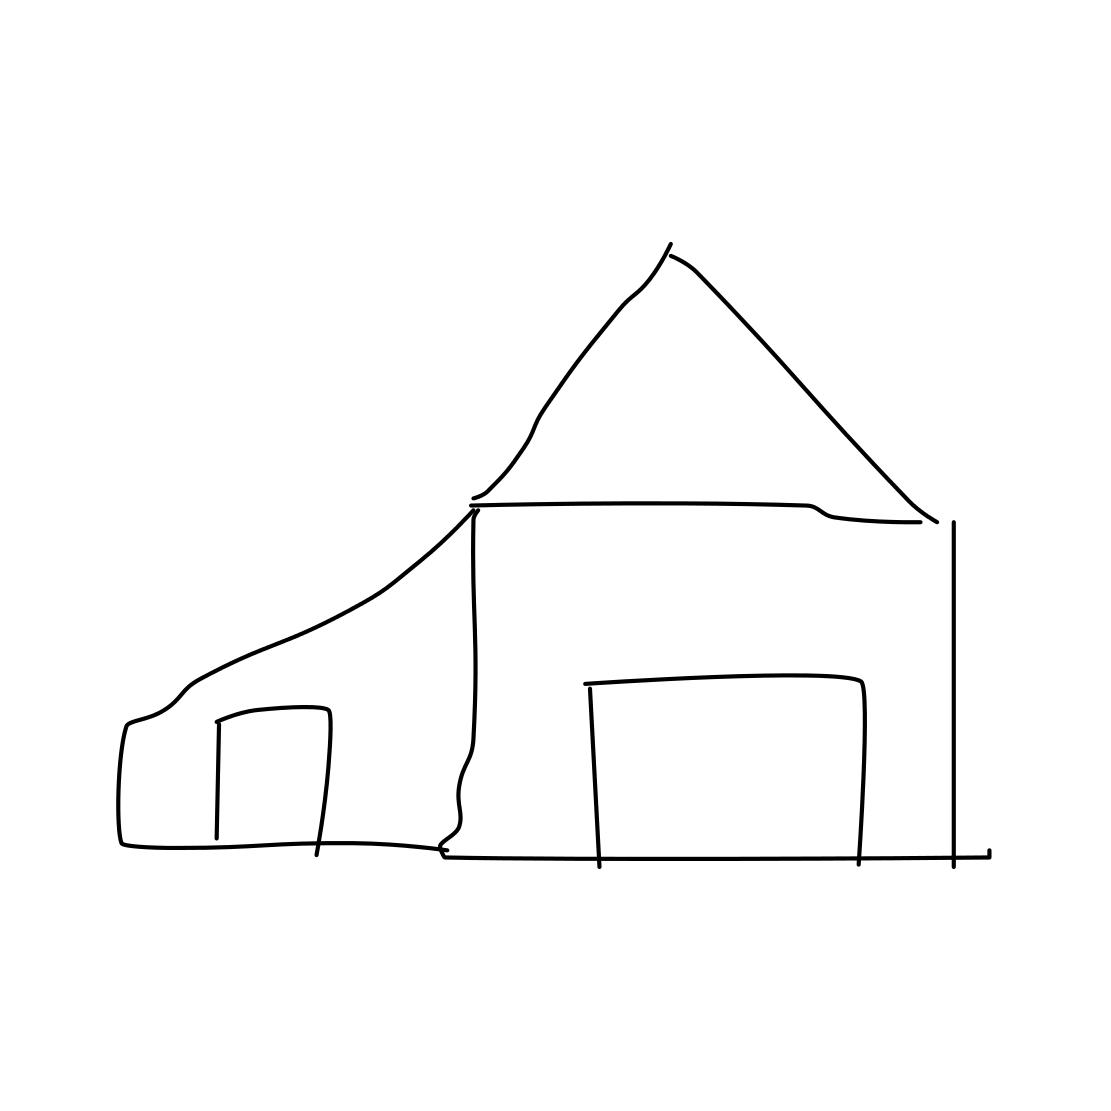House: (81, 228, 1015, 900)
